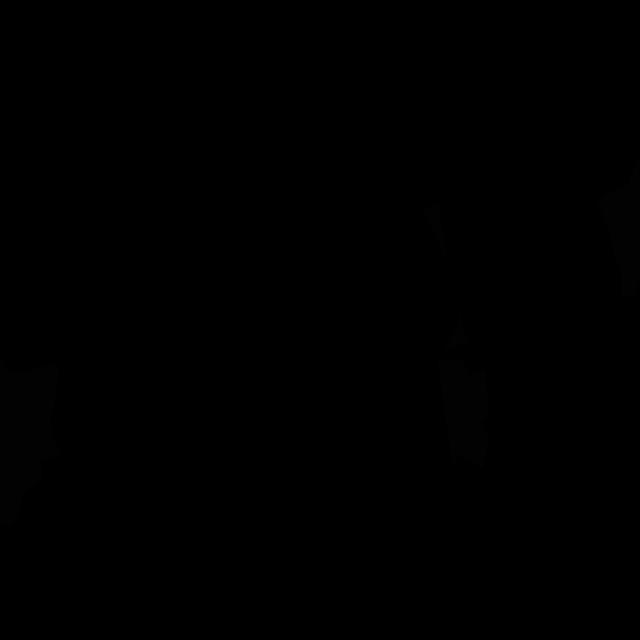cardboard: (0, 357, 62, 525), (596, 159, 640, 297), (437, 359, 489, 469), (423, 204, 448, 264), (443, 306, 470, 349)
